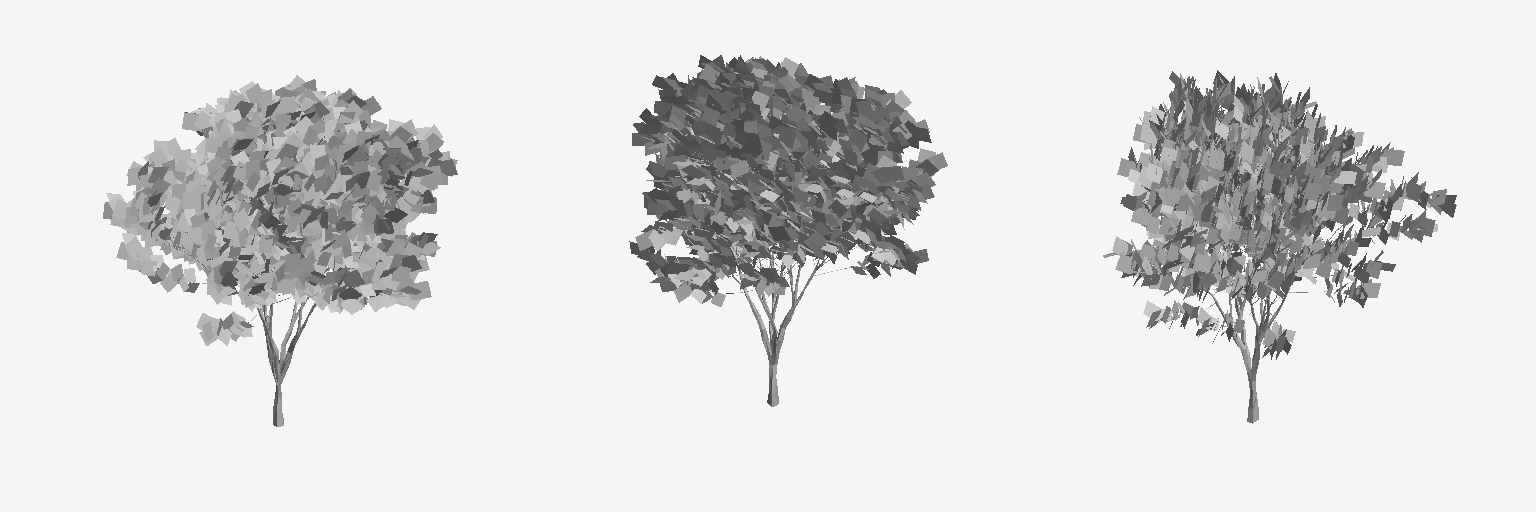
Rendered from Tree 2.obj.
3 views of the same model, side by side, from view 1: azimuth 30°, elevation 25°; view 2: azimuth 150°, elevation 25°; view 3: azimuth 270°, elevation 25° (orthographic).
Visible parts, largest first — view 1: keyakiPark1MeshGroup keyakiPark1Leaf, keyakiPark1Main keyakiPark1MeshGroup; view 2: keyakiPark1MeshGroup keyakiPark1Leaf, keyakiPark1Main keyakiPark1MeshGroup; view 3: keyakiPark1MeshGroup keyakiPark1Leaf, keyakiPark1Main keyakiPark1MeshGroup.
Boxes of the visible parts, x1,y1,x2,y2 form: keyakiPark1MeshGroup keyakiPark1Leaf: [103, 75, 457, 345]; keyakiPark1Main keyakiPark1MeshGroup: [161, 139, 407, 426]; keyakiPark1MeshGroup keyakiPark1Leaf: [629, 55, 947, 306]; keyakiPark1Main keyakiPark1MeshGroup: [672, 104, 901, 406]; keyakiPark1MeshGroup keyakiPark1Leaf: [1103, 70, 1456, 359]; keyakiPark1Main keyakiPark1MeshGroup: [1158, 114, 1361, 423].
Size of the model in its own units: 12.04 by 12.17 by 12.15.